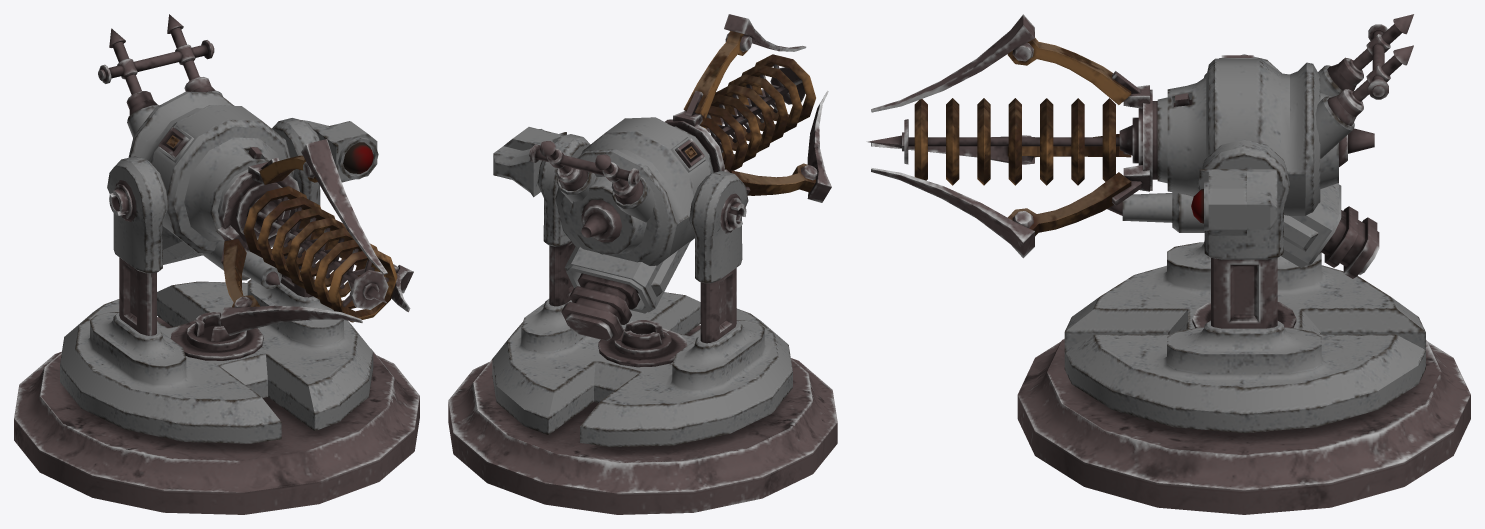
The picture shows the model from 3 angles, left to right: view 1: azimuth 30°, elevation 25°; view 2: azimuth 150°, elevation 25°; view 3: azimuth 270°, elevation 25°; orthographic projection. The views are drawn at different scales.
Visible parts, largest first — view 1: base, middle base, body, launch, paw, left bracket, tail, light, right bracket; view 2: base, middle base, body, launch, left bracket, paw, right bracket, tail, light; view 3: middle base, base, body, paw, launch, right bracket, light, tail.
Boxes of the visible parts, <box> form: base: <box>14,312,419,514</box>; middle base: <box>60,279,373,443</box>; body: <box>127,91,294,288</box>; launch: <box>243,186,397,322</box>; paw: <box>218,139,413,335</box>; left bracket: <box>107,156,168,335</box>; tail: <box>98,14,220,120</box>; light: <box>302,120,378,182</box>; right bracket: <box>272,118,320,297</box>; base: <box>448,320,837,514</box>; middle base: <box>492,292,792,447</box>; body: <box>555,117,713,340</box>; launch: <box>699,54,815,171</box>; left bracket: <box>689,171,748,343</box>; paw: <box>665,14,831,202</box>; right bracket: <box>537,134,590,306</box>; tail: <box>529,141,647,208</box>; light: <box>493,127,566,197</box>; middle base: <box>1064,241,1425,433</box>; base: <box>1017,302,1470,514</box>; body: <box>1107,55,1379,278</box>; paw: <box>871,14,1157,258</box>; launch: <box>866,98,1138,185</box>; right bracket: <box>1198,139,1289,328</box>; light: <box>1191,169,1277,235</box>; tail: <box>1323,14,1413,130</box>.
Bounding box in the file's own units: 0.7493 × 0.7286 × 1.
Materials: 17 (17 with a texture image).
